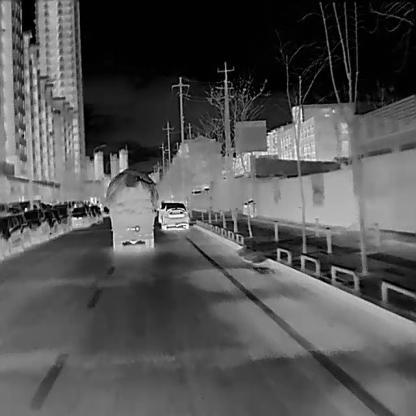car: (103, 168, 159, 251), (0, 213, 30, 256), (23, 208, 49, 245), (161, 201, 189, 230), (52, 203, 72, 233), (43, 209, 63, 238), (70, 205, 90, 228), (242, 197, 255, 217), (102, 205, 109, 215)
